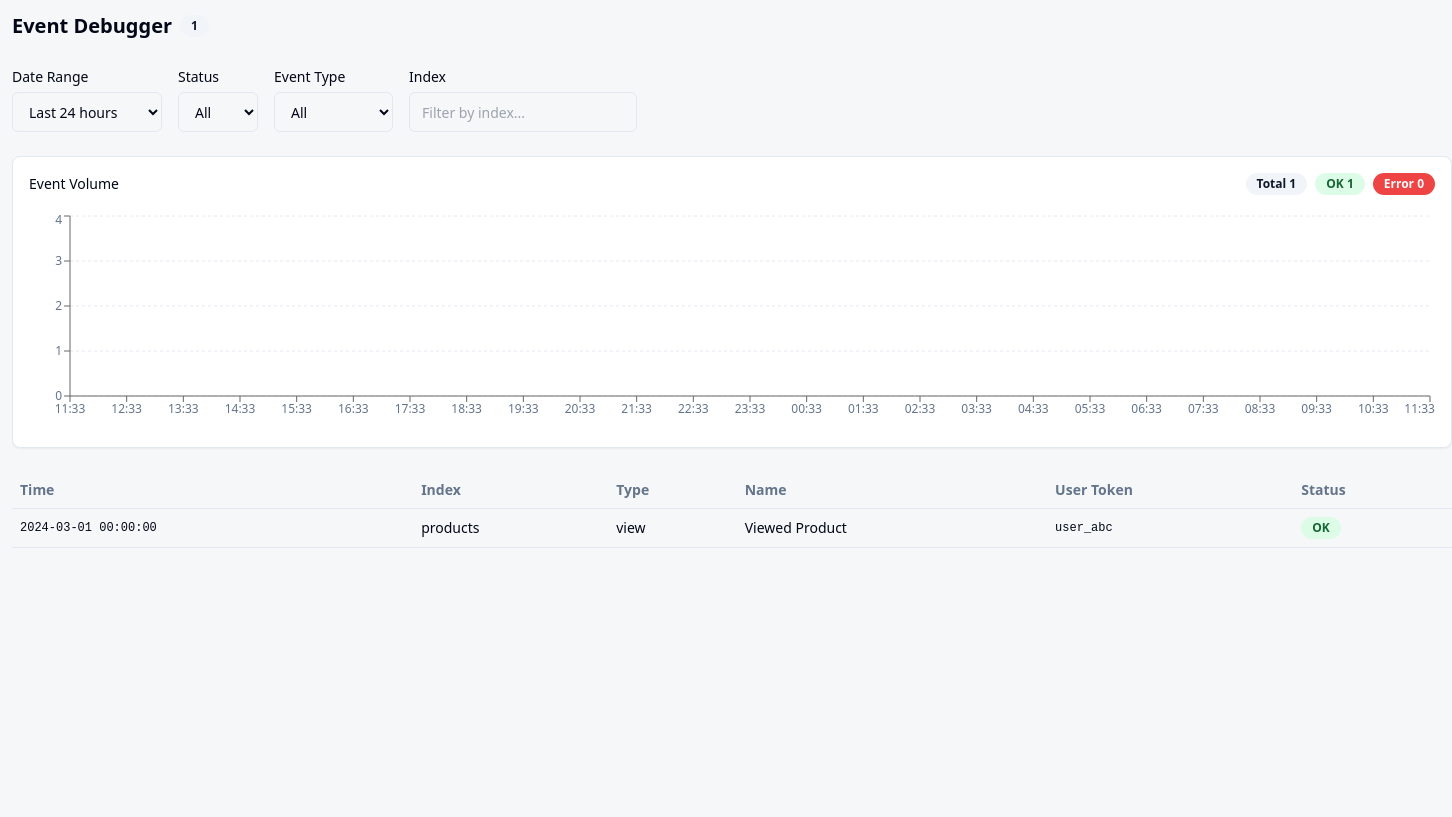
Test: EventDebugger › clears a selected event when filters load a different result set
The image size is (1452, 817).
Click the row with test id "event-row": (732, 528) [12,508,1451,548]
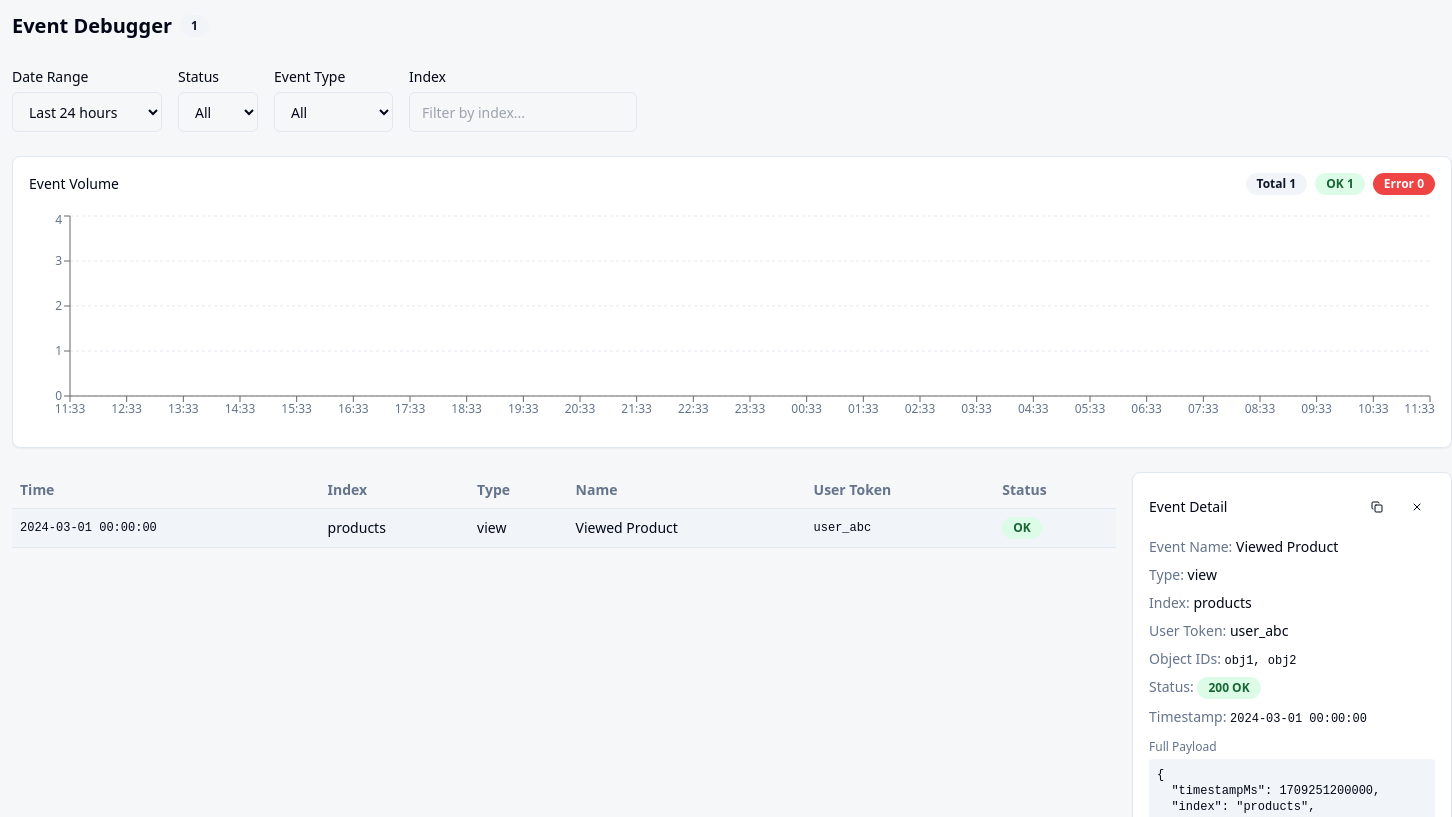
Select "Error" in the dropdown labelled "Status": (218, 112) [178,92,258,132]
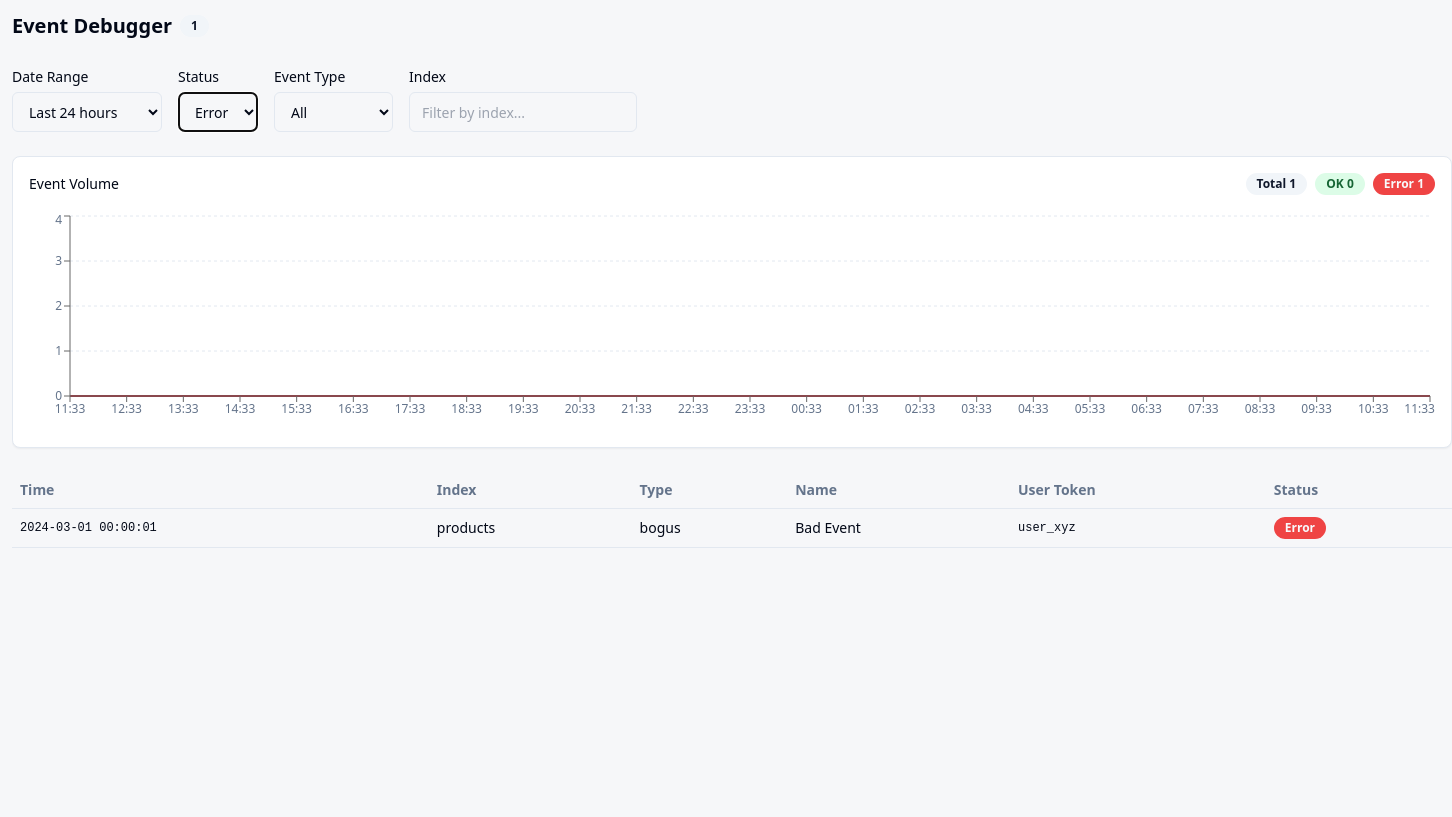
Now the element with test id "event-table" shows "Bad Event", box [795,518,861,537]
